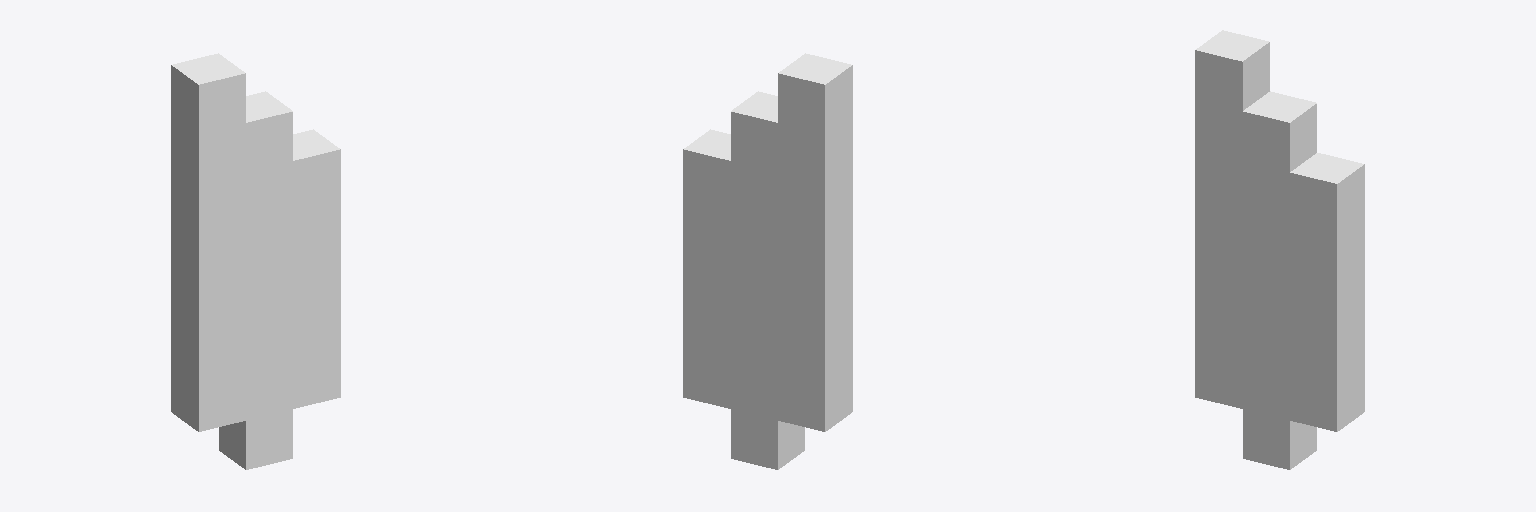
Rendered from WoodenSword.obj.
The picture shows the model from 3 angles: view 1: azimuth 30°, elevation 25°; view 2: azimuth 150°, elevation 25°; view 3: azimuth 330°, elevation 25°; orthographic projection.
Size of the model in its own units: 3 by 8 by 1.